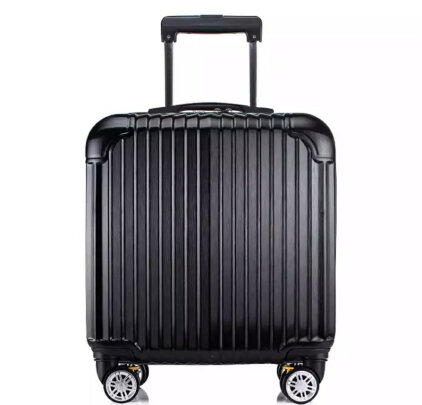box: (86, 113, 337, 365)
handle: (148, 102, 274, 112)
wheel: (279, 367, 319, 404), (103, 368, 140, 403)
